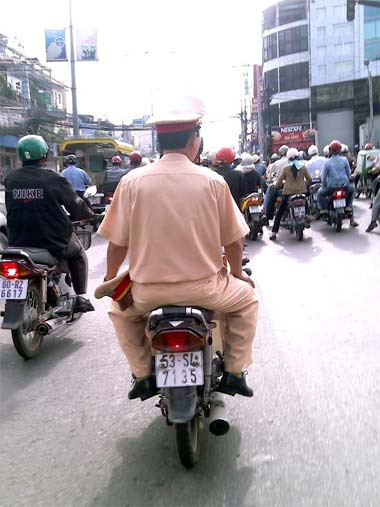police: (106, 95, 273, 420)
